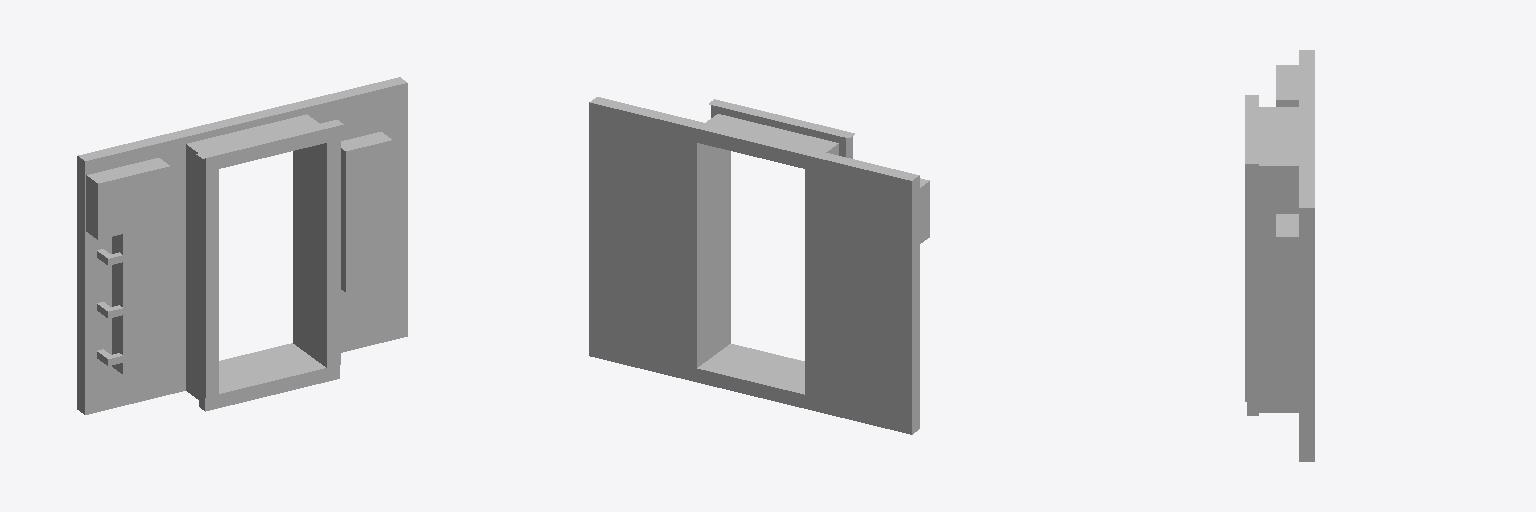
File: end_face_original_25b_3.obj
3 views of the same model, side by side, from view 1: azimuth 30°, elevation 25°; view 2: azimuth 150°, elevation 25°; view 3: azimuth 270°, elevation 25° (orthographic).
Parts seen in each view (by area): view 1: cube; view 2: cube; view 3: cube.
Part boxes in pixels (bbox=[...]): cube: bbox=[77, 77, 407, 414]; cube: bbox=[589, 97, 929, 434]; cube: bbox=[1245, 50, 1314, 461].
Bounding box in the file's own units: 2.99 × 2.25 × 0.5562.